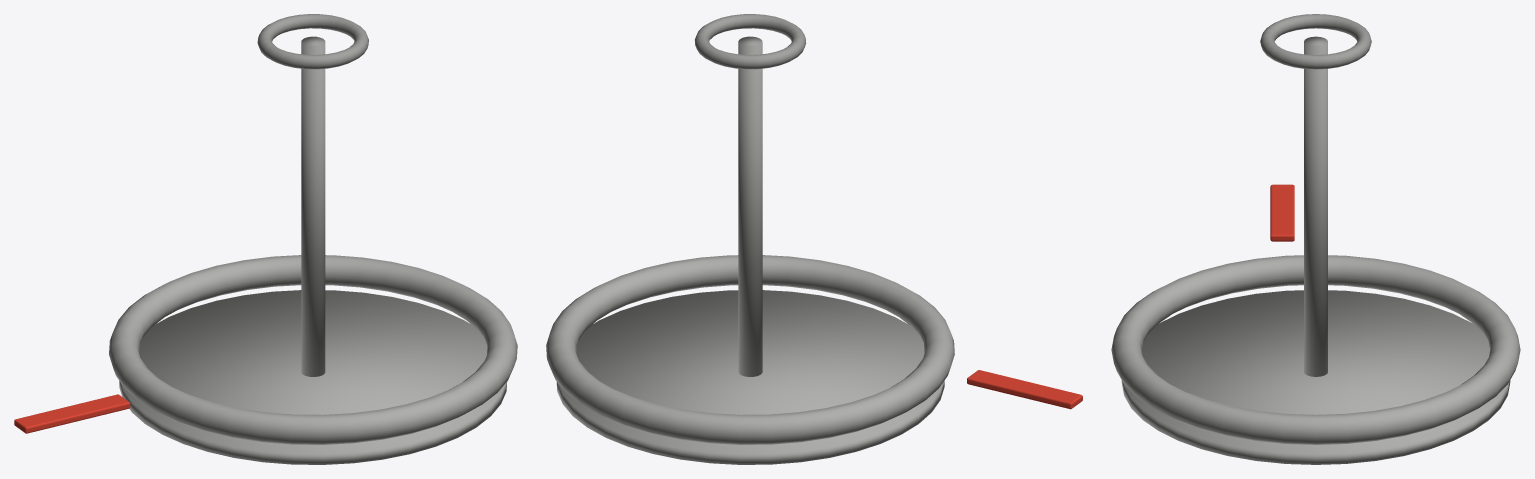
File: weight_tray.glb
3 renders of one model, left to right at view 1: azimuth 30°, elevation 25°; view 2: azimuth 150°, elevation 25°; view 3: azimuth 270°, elevation 25°, orthographic.
Parts seen in each view (by area): view 1: tray_plate, tray_rim, tray_post, tray_ring, pointer; view 2: tray_plate, tray_rim, tray_post, tray_ring, pointer; view 3: tray_plate, tray_rim, tray_post, tray_ring, pointer.
Boxes of the visible parts, x1,y1,x2,y2 form: tray_plate: (119,290,507,464); tray_rim: (109,255,517,444); tray_post: (301,36,325,376); tray_ring: (257,14,368,69); pointer: (14,394,130,433); tray_plate: (556,290,944,464); tray_rim: (546,255,954,444); tray_post: (738,36,762,376); tray_ring: (694,14,806,69); pointer: (967,370,1082,409); tray_plate: (1121,290,1510,464); tray_rim: (1111,255,1520,444); tray_post: (1304,36,1327,376); tray_ring: (1260,14,1371,69); pointer: (1270,184,1294,241).
Size of the model in its own units: 0.0927 by 0.0631 by 0.0674.
